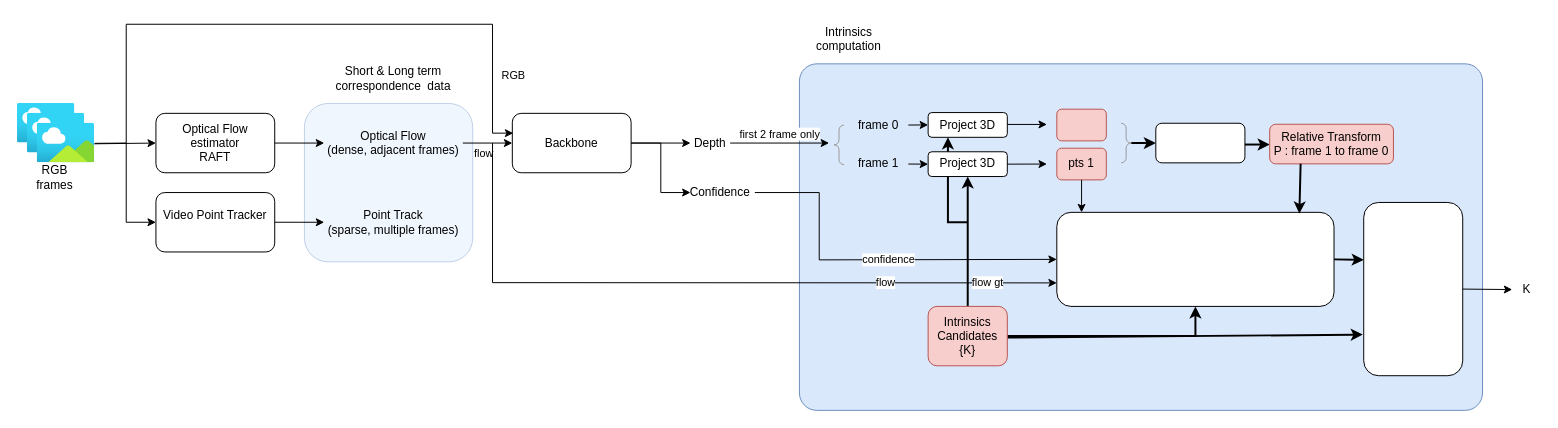
Image size: 1558x428. Some labels were removed from this diagram. Here are the shapes that lost their labels. From the top down, the box of each, then its label:
(1056, 108, 1106, 141): pts 0
(1155, 122, 1245, 163): Procrustes' formulation
(1056, 211, 1334, 306): Weighted Flow reprojection Loss
(1363, 201, 1463, 376): softmax weighting p ∝ exp(-L)
